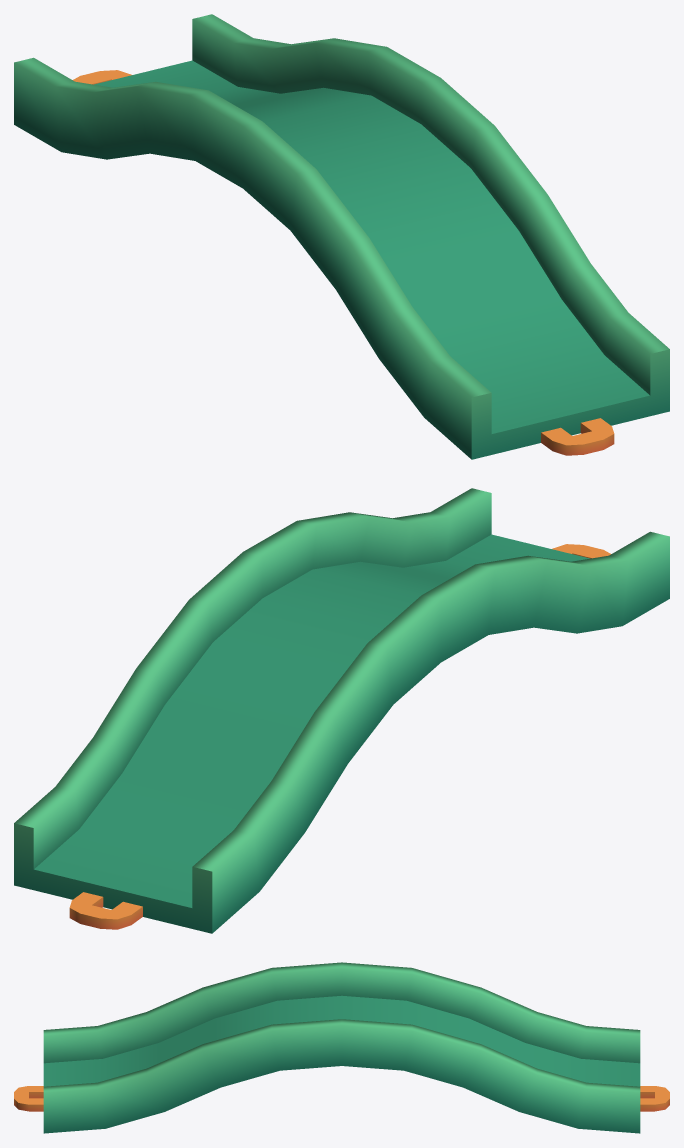
File: track-narrow-straight-bump-up.fbx
The picture shows the model from 3 angles, top to bottom: view 1: azimuth 30°, elevation 25°; view 2: azimuth 150°, elevation 25°; view 3: azimuth 270°, elevation 25°; orthographic projection. The views are drawn at different scales.
Visible parts, largest first — view 1: track-narrow-straight-bump-up; view 2: track-narrow-straight-bump-up; view 3: track-narrow-straight-bump-up.
Part boxes in pixels (box(x1,y1,x2,y2)): track-narrow-straight-bump-up: box(14, 14, 669, 459); track-narrow-straight-bump-up: box(14, 488, 669, 933); track-narrow-straight-bump-up: box(14, 962, 669, 1133).
Size of the model in its own units: 100 by 80 by 440.
